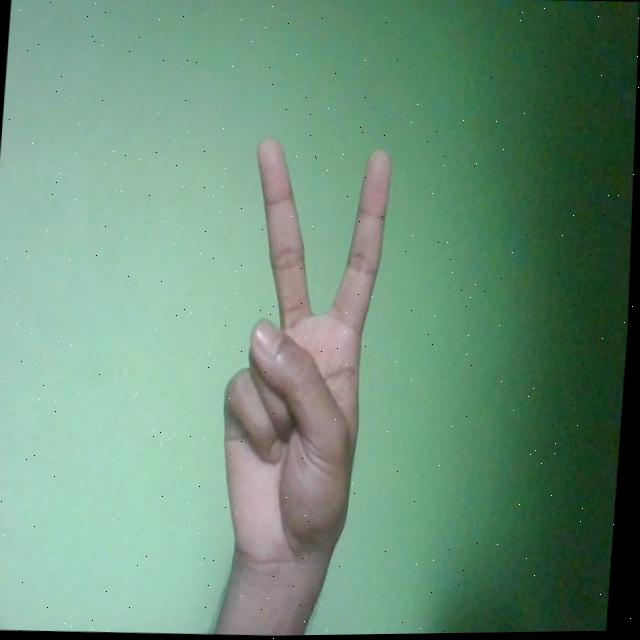Peace: (215, 135, 396, 577)
